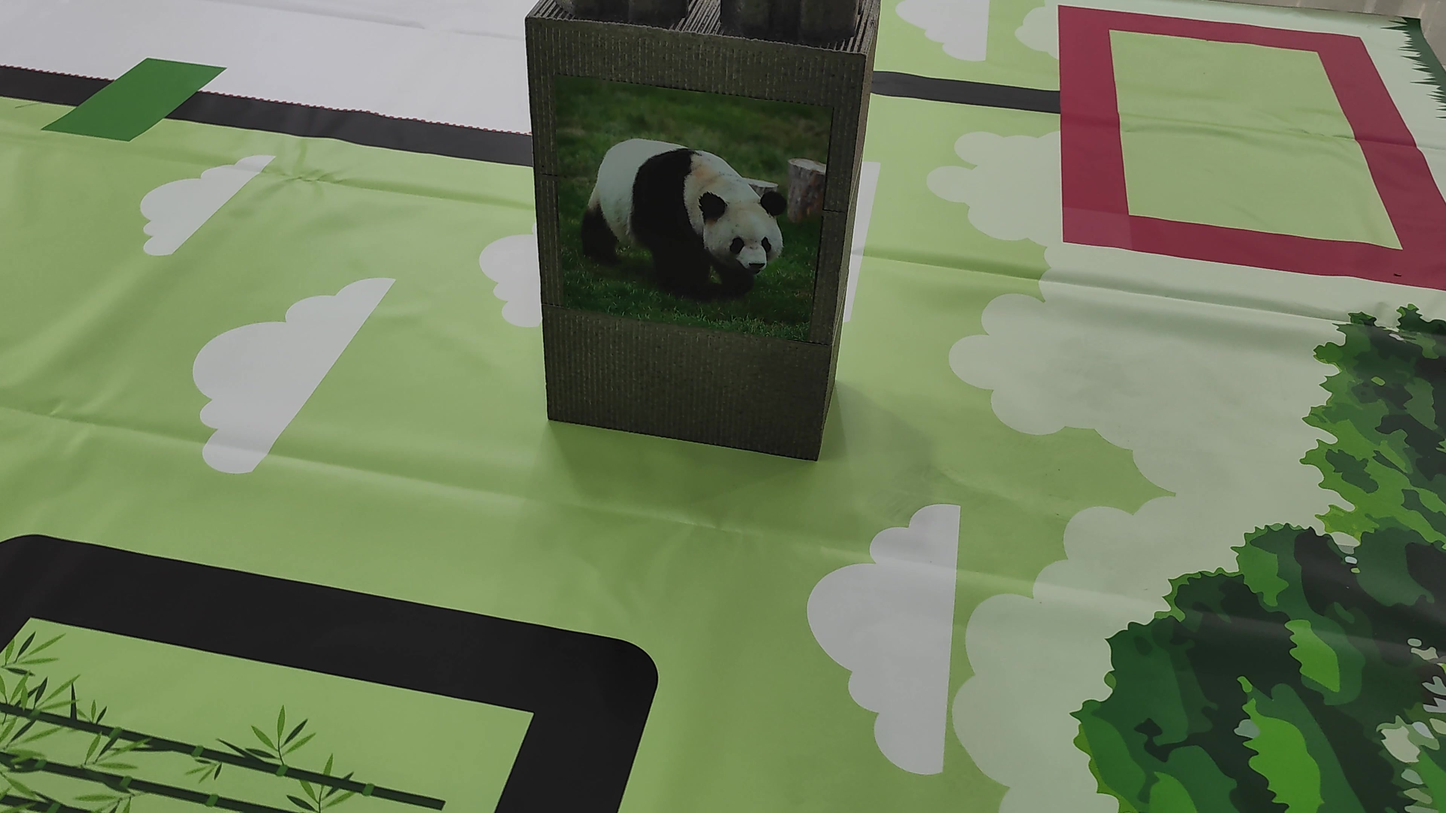panda: (569, 124, 793, 328)
